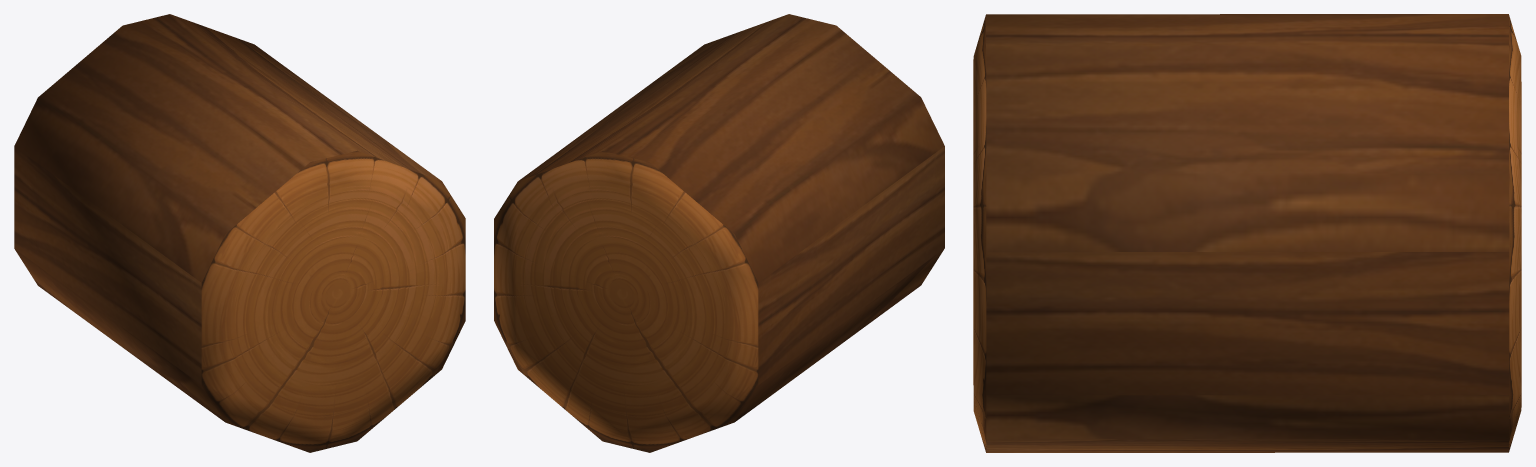
File: Wood.fbx
3 views of the same model, side by side, from view 1: azimuth 30°, elevation 25°; view 2: azimuth 150°, elevation 25°; view 3: azimuth 270°, elevation 25° (orthographic). The views are drawn at different scales.
Visible parts, largest first — view 1: Wood; view 2: Wood; view 3: Wood.
Part boxes in pixels (left/top/right/bottom): Wood: left=14, top=14, right=465, bottom=452; Wood: left=494, top=14, right=944, bottom=452; Wood: left=973, top=14, right=1521, bottom=452.
Size of the model in its own units: 0.2249 by 0.236 by 0.2886.
